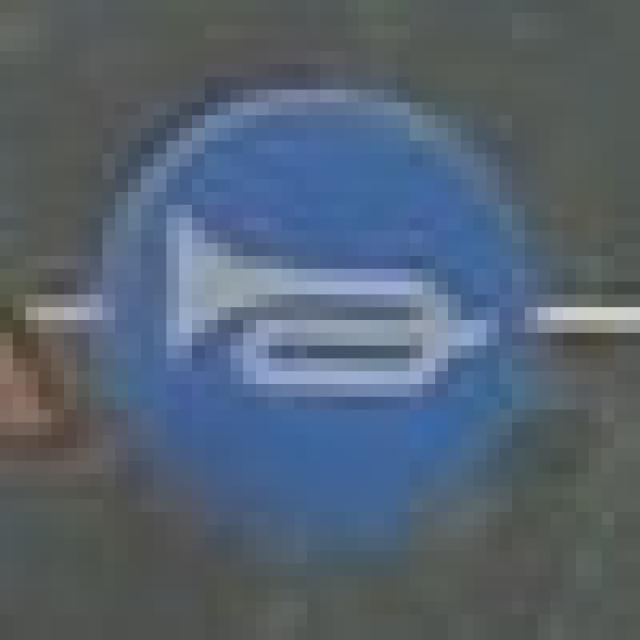compulsory_min_speed: (77, 51, 525, 538)
